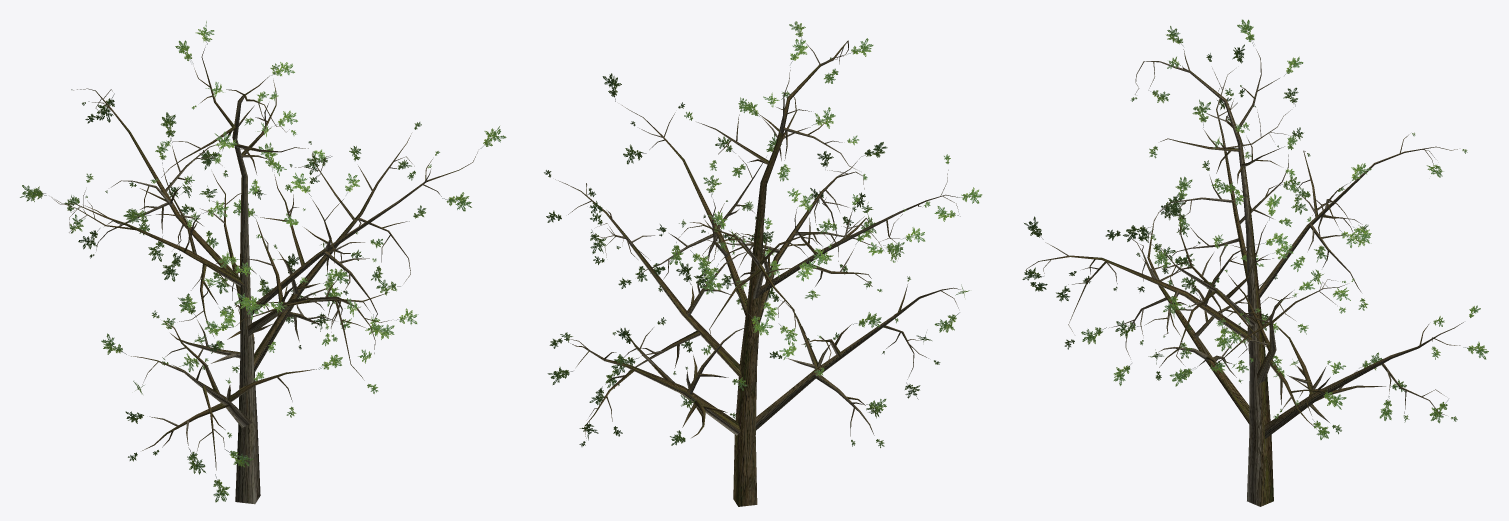
Rendered from dead_ash.glb.
3 renders of one model, left to right at view 1: azimuth 30°, elevation 25°; view 2: azimuth 150°, elevation 25°; view 3: azimuth 270°, elevation 25°, orthographic. The views are drawn at different scales.
Parts seen in each view (by area): view 1: trunk, leaves; view 2: trunk, leaves; view 3: trunk, leaves.
Boxes of the visible parts, x1=… form: trunk: x1=51, y1=47, x2=477, y2=504; leaves: x1=20, y1=21, x2=506, y2=502; trunk: x1=555, y1=40, x2=960, y2=506; leaves: x1=544, y1=21, x2=982, y2=447; trunk: x1=1026, y1=49, x2=1463, y2=506; leaves: x1=1022, y1=19, x2=1488, y2=439.
Size of the model in its own units: 6.55 by 7 by 6.51.
Materials: 2 (2 with a texture image).
